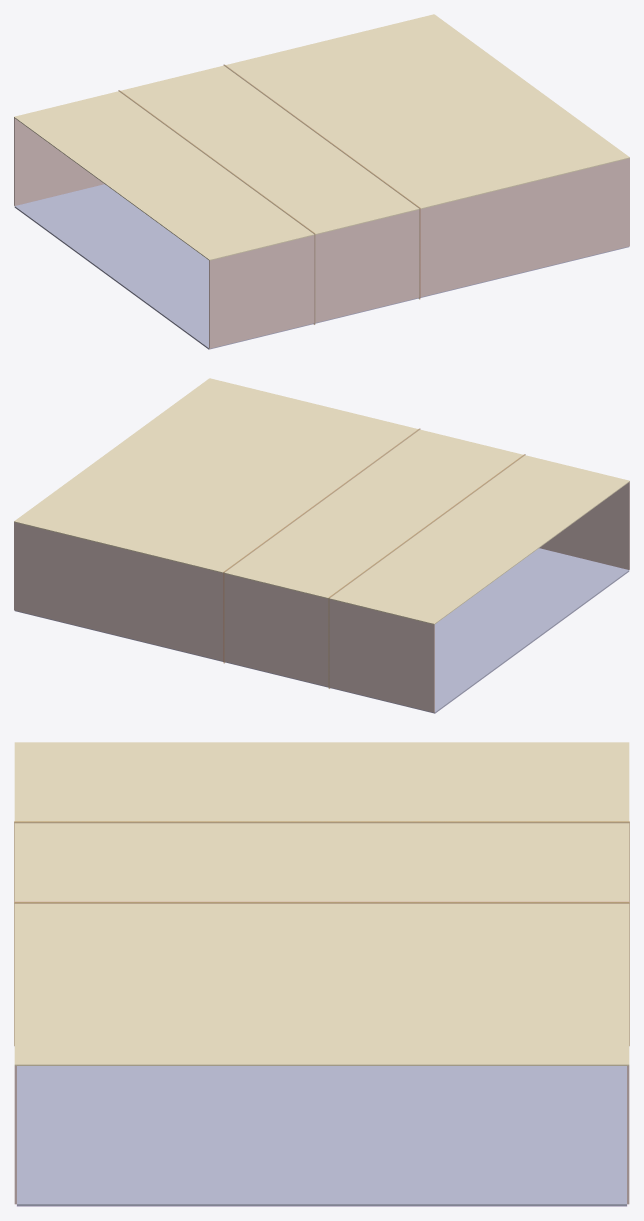
File: hatch_coaming.glb
3 views of the same model, one above another, from view 1: azimuth 30°, elevation 25°; view 2: azimuth 150°, elevation 25°; view 3: azimuth 270°, elevation 25° (orthographic). The views are drawn at different scales.
Visible parts, largest first — view 1: base_member_coaming_top, base_member_coaming_right, base_member_upper_deck, m5_member_M03_1, m4_member_M03_0, base_member_coaming_left; view 2: base_member_coaming_top, base_member_coaming_left, base_member_upper_deck, m5_member_M03_1, m4_member_M03_0, base_member_coaming_right; view 3: base_member_coaming_top, base_member_upper_deck, m5_member_M03_1, m4_member_M03_0, m1_joint_J02_0, m1_joint_J01_0, m3_joint_J02_2.
Boxes of the visible parts, left/top/right/bottom form: base_member_coaming_top: left=14, top=14, right=629, bottom=260; base_member_coaming_right: left=209, top=158, right=629, bottom=348; base_member_upper_deck: left=14, top=184, right=628, bottom=349; m5_member_M03_1: left=15, top=184, right=627, bottom=349; m4_member_M03_0: left=15, top=184, right=622, bottom=348; base_member_coaming_left: left=14, top=118, right=104, bottom=205; base_member_coaming_top: left=14, top=378, right=629, bottom=624; base_member_coaming_left: left=14, top=522, right=434, bottom=712; base_member_upper_deck: left=15, top=548, right=629, bottom=713; m5_member_M03_1: left=16, top=548, right=628, bottom=713; m4_member_M03_0: left=21, top=548, right=628, bottom=712; base_member_coaming_right: left=539, top=482, right=629, bottom=569; base_member_coaming_top: left=14, top=742, right=629, bottom=1065; base_member_upper_deck: left=17, top=1066, right=626, bottom=1206; m5_member_M03_1: left=17, top=1066, right=626, bottom=1206; m4_member_M03_0: left=17, top=1066, right=626, bottom=1205; m1_joint_J02_0: left=14, top=902, right=629, bottom=1045; m1_joint_J01_0: left=14, top=821, right=629, bottom=900; m3_joint_J02_2: left=14, top=902, right=629, bottom=903.
Bounding box in the file's own units: 10.01 × 2.08 × 8.08.
